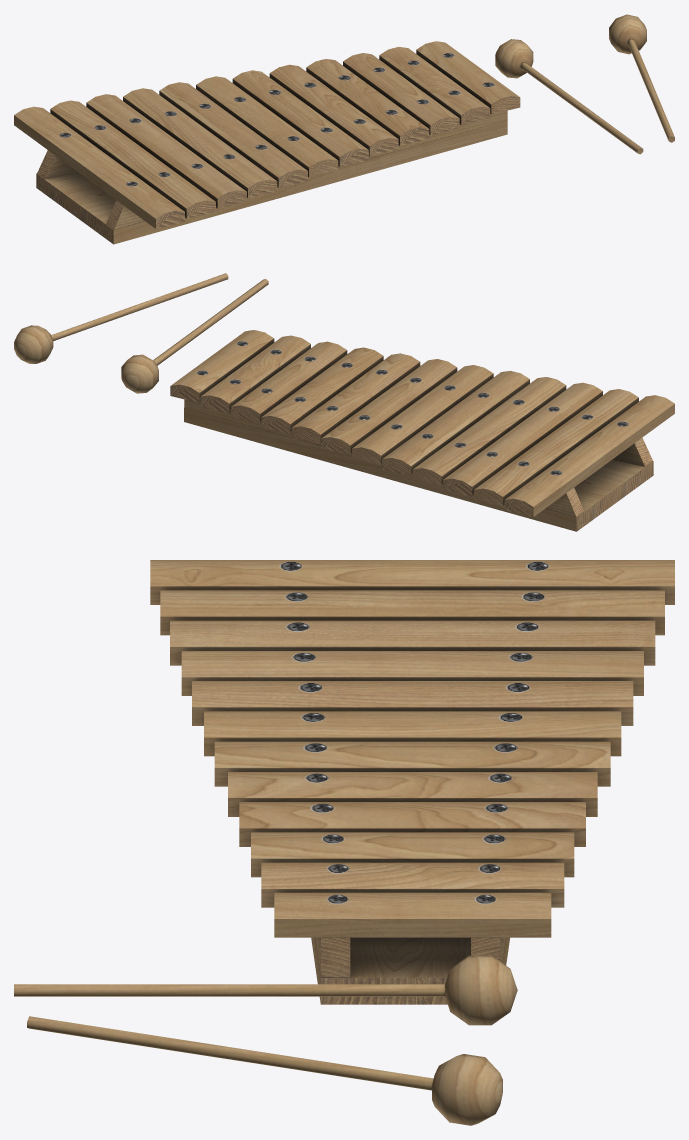
Rendered from Xylophone.FBX.
The picture shows the model from 3 angles, top to bottom: view 1: azimuth 30°, elevation 25°; view 2: azimuth 150°, elevation 25°; view 3: azimuth 270°, elevation 25°; orthographic projection. The views are drawn at different scales.
Visible parts, largest first — view 1: Xylophone, XyloStick, XyloStick01; view 2: Xylophone, XyloStick01, XyloStick; view 3: Xylophone, XyloStick, XyloStick01.
Boxes of the visible parts, box(x1,y1,x2,y2) form: Xylophone: box(14, 41, 520, 244); XyloStick: box(495, 39, 643, 154); XyloStick01: box(609, 14, 674, 142); Xylophone: box(170, 330, 674, 531); XyloStick01: box(14, 273, 228, 363); XyloStick: box(121, 279, 268, 393); Xylophone: box(150, 560, 674, 1004); XyloStick: box(14, 955, 517, 1025); XyloStick01: box(27, 1016, 502, 1125).
Size of the model in its own units: 76.18 by 6.21 by 40.32.
1 material, 1 textured.
